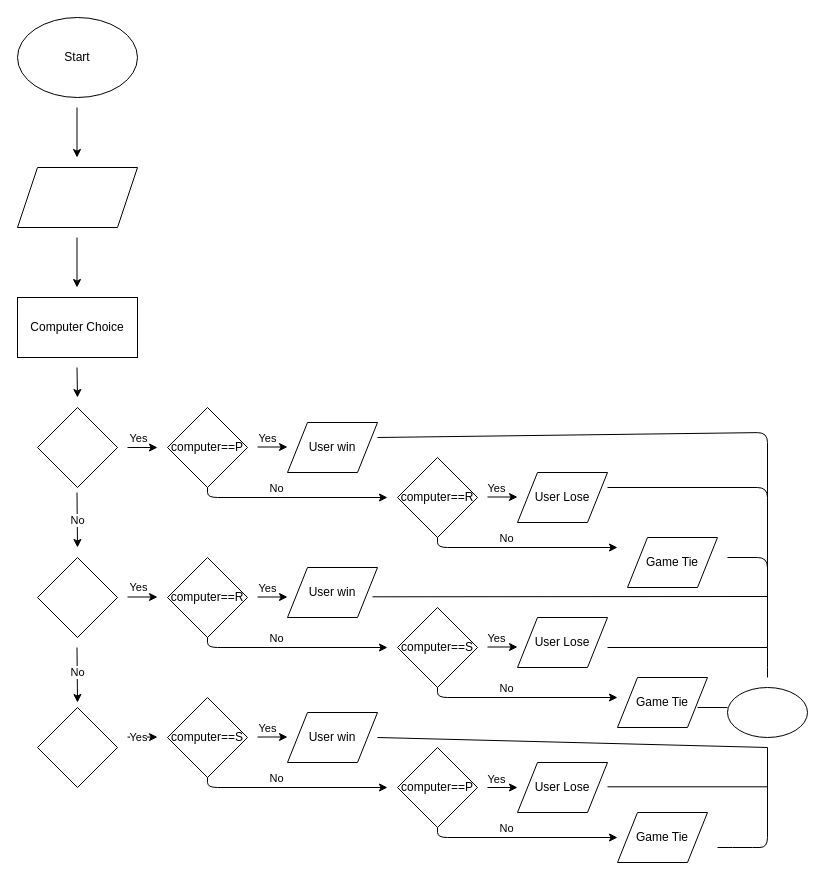
Image size: 825x880. Some labels were removed from this diagram. Here are the shapes that lost their labels. From the top down, the box of each, then its label:
(16, 166, 138, 228): User Input
(36, 406, 118, 488): User==S
(36, 556, 118, 638): User==P
(726, 686, 808, 738): End
(36, 706, 118, 788): User==R
